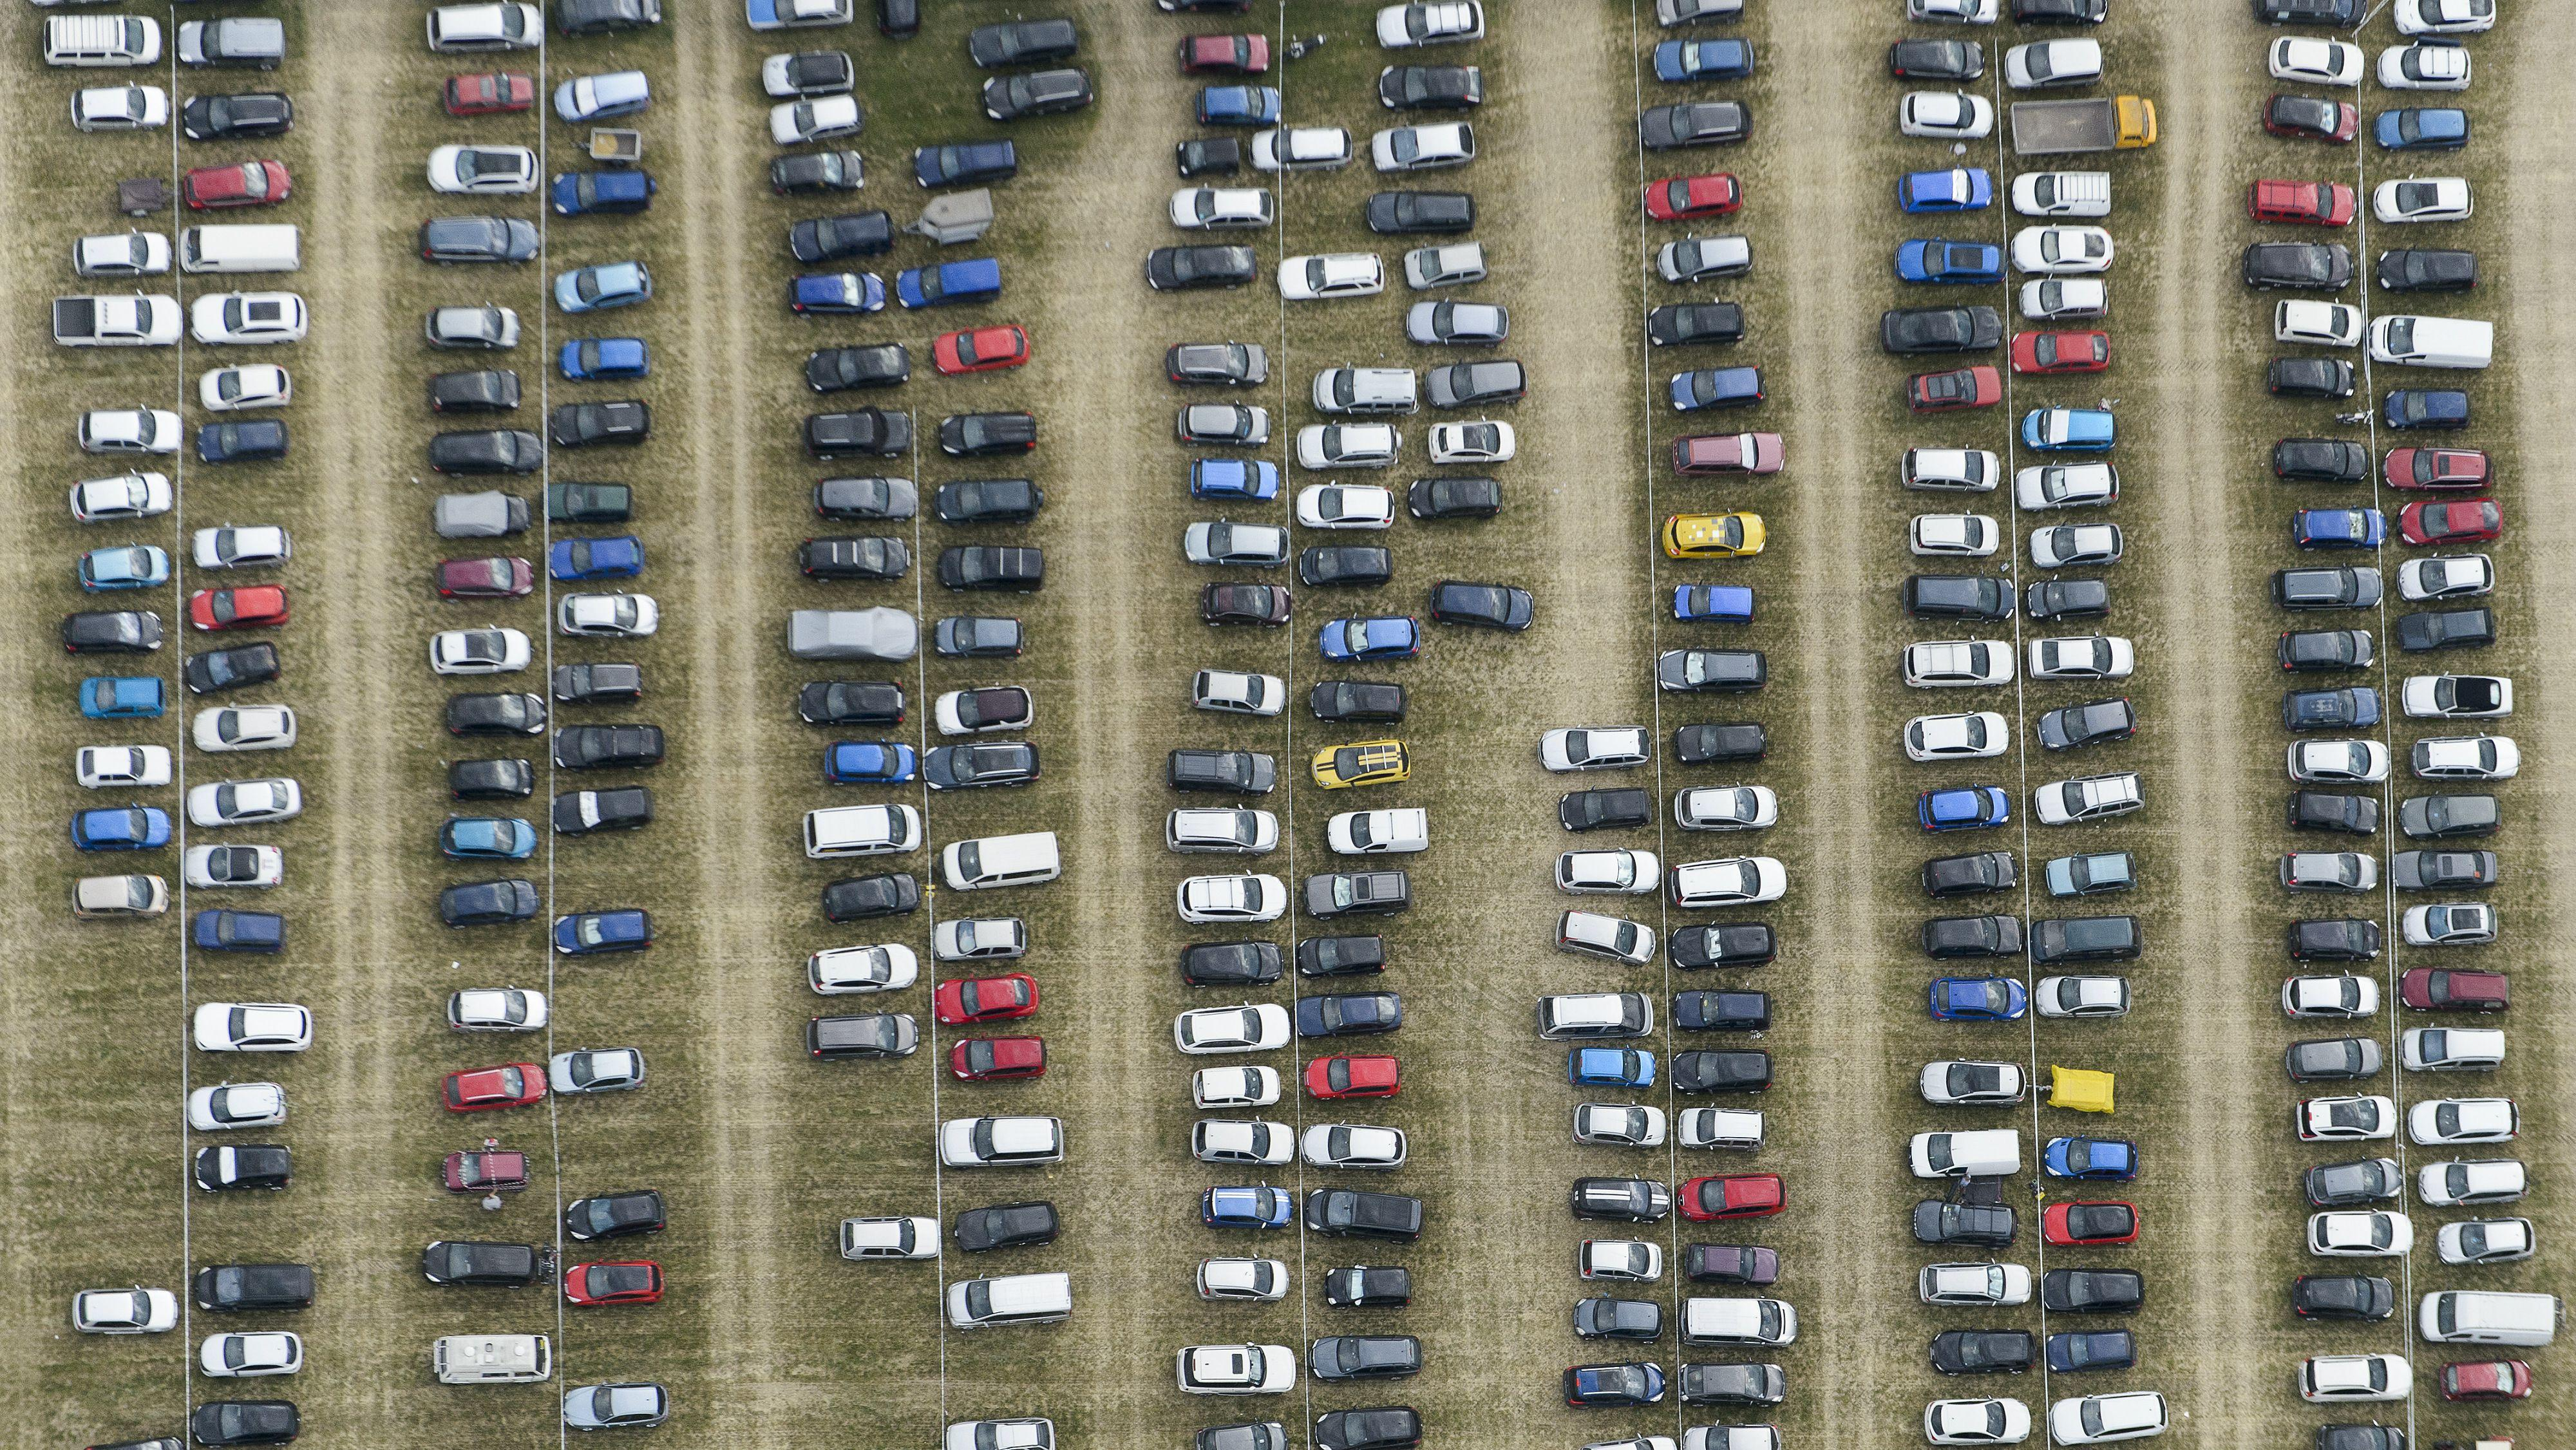car: (1909, 1045, 2125, 1118), (1162, 1330, 1300, 1399), (182, 283, 317, 354), (2415, 1282, 2564, 1346), (32, 5, 166, 71), (1663, 845, 1801, 909), (936, 828, 1069, 893), (2371, 311, 2507, 375), (778, 608, 918, 670), (407, 1229, 547, 1291), (180, 1254, 315, 1317), (1642, 504, 1778, 566), (1159, 859, 1279, 928), (1660, 424, 1798, 483), (180, 88, 306, 152), (179, 225, 315, 283), (2005, 97, 2153, 150), (1644, 638, 1775, 698), (65, 396, 186, 462), (46, 283, 177, 343), (170, 14, 301, 74), (789, 329, 915, 391), (182, 994, 315, 1052), (425, 1330, 563, 1385), (1649, 354, 1775, 414), (1396, 292, 1507, 359), (2038, 1385, 2174, 1438), (1272, 249, 1389, 311), (1295, 737, 1422, 794), (794, 805, 922, 861), (418, 290, 531, 354), (1672, 1294, 1798, 1351), (2233, 175, 2358, 232), (2399, 730, 2528, 785), (1668, 776, 1798, 831), (943, 1277, 1081, 1328), (931, 1110, 1063, 1164), (1424, 575, 1545, 633), (1905, 1254, 2029, 1310), (188, 1324, 315, 1379), (1164, 1003, 1283, 1061), (1304, 1179, 1419, 1240), (920, 317, 1035, 377), (927, 668, 1035, 732), (941, 1190, 1070, 1243), (433, 1056, 547, 1116), (191, 775, 318, 828), (2238, 230, 2353, 288), (2295, 1344, 2413, 1400), (536, 394, 648, 454), (1415, 348, 1537, 403), (184, 902, 292, 964), (2396, 668, 2521, 721), (2035, 1263, 2151, 1319), (2015, 396, 2132, 453), (1297, 1116, 1414, 1172), (64, 472, 180, 529), (1548, 909, 1658, 969), (2371, 44, 2480, 104), (556, 1381, 676, 1436), (2401, 1095, 2525, 1148), (1177, 1110, 1300, 1164), (416, 622, 540, 675), (182, 1139, 306, 1192), (1897, 1128, 2024, 1179), (1134, 239, 1261, 290), (547, 585, 662, 642), (803, 1015, 922, 1070), (1923, 1319, 2045, 1372), (2031, 775, 2157, 826), (1313, 808, 1438, 859), (2273, 561, 2387, 617), (182, 516, 295, 573), (541, 893, 651, 951), (2033, 1125, 2139, 1185), (1175, 653, 1281, 713), (182, 698, 303, 752), (425, 552, 536, 608), (1672, 1356, 1787, 1411), (441, 985, 556, 1040), (1191, 1181, 1299, 1240), (175, 829, 283, 888), (2029, 698, 2148, 752), (1300, 357, 1419, 410), (1159, 805, 1281, 856), (541, 263, 663, 315), (65, 80, 166, 141), (1870, 301, 1996, 350), (1656, 721, 1782, 771), (1175, 515, 1284, 571), (2298, 1204, 2415, 1257), (2277, 495, 2394, 548), (2029, 909, 2150, 960), (798, 935, 909, 990), (1300, 536, 1408, 592), (541, 1040, 649, 1096), (1897, 571, 2012, 624), (1890, 92, 1994, 150), (2286, 1091, 2404, 1142), (1897, 637, 2019, 686), (69, 1287, 179, 1342), (1638, 299, 1764, 347), (1286, 472, 1385, 532), (931, 541, 1051, 591), (545, 720, 665, 769), (1661, 575, 1769, 630), (2261, 30, 2373, 83), (541, 778, 653, 831), (437, 690, 552, 741), (180, 1079, 295, 1130), (177, 580, 292, 631), (2396, 962, 2514, 1011), (1171, 934, 1290, 983), (2266, 847, 2388, 895), (2019, 635, 2141, 683), (1286, 858, 1408, 905), (1890, 225, 1999, 278), (425, 361, 534, 414), (426, 486, 540, 538), (2394, 497, 2511, 546), (2369, 249, 2486, 299), (2035, 849, 2151, 898), (552, 1190, 669, 1240), (1913, 1393, 2038, 1439), (2250, 97, 2358, 150), (538, 532, 646, 585), (433, 810, 541, 863), (534, 463, 639, 518), (1290, 985, 1401, 1036), (2396, 1020, 2511, 1070), (1675, 1172, 1790, 1222), (67, 736, 165, 794), (793, 679, 911, 727), (1877, 30, 1983, 83), (2381, 439, 2491, 490), (1286, 414, 1408, 460), (784, 534, 906, 580), (2275, 912, 2388, 962), (432, 879, 545, 928), (1536, 992, 1652, 1040), (1552, 783, 1656, 836), (1665, 1040, 1773, 1091), (2020, 518, 2128, 569), (548, 332, 656, 384), (188, 357, 295, 408), (1304, 1050, 1405, 1105), (1890, 447, 2001, 497), (1644, 41, 1755, 90), (2263, 295, 2360, 352), (2417, 1156, 2532, 1204), (2031, 971, 2146, 1019), (1633, 103, 1757, 147), (1651, 235, 1769, 281), (1920, 905, 2022, 958), (2005, 329, 2107, 382), (425, 1144, 531, 1195), (816, 870, 925, 920), (561, 1257, 671, 1307), (1629, 168, 1757, 210), (1905, 1195, 2022, 1241), (2270, 737, 2387, 783), (58, 605, 163, 656), (2277, 1031, 2388, 1079), (2365, 175, 2477, 223), (1387, 239, 1499, 286), (173, 640, 285, 688), (1157, 743, 1272, 789), (58, 226, 173, 272), (2268, 435, 2371, 486), (1555, 1363, 1674, 1408), (2427, 1355, 2537, 1402), (2296, 1153, 2406, 1201), (1171, 396, 1272, 447), (2277, 974, 2385, 1022), (1164, 340, 1272, 387), (803, 408, 911, 456), (1672, 1098, 1766, 1153), (1665, 923, 1790, 964), (927, 978, 1047, 1020), (883, 269, 1014, 308), (1541, 854, 1656, 898), (1536, 725, 1651, 769), (2256, 350, 2358, 400), (2394, 898, 2500, 946), (1566, 1172, 1672, 1220), (2429, 1218, 2539, 1264), (934, 410, 1044, 456), (182, 1397, 306, 1438), (1405, 472, 1518, 516), (2010, 225, 2111, 274), (71, 872, 172, 921), (1424, 414, 1529, 462), (1184, 1065, 1288, 1112), (2289, 1273, 2397, 1319), (927, 481, 1044, 523), (1311, 614, 1414, 661), (918, 746, 1039, 787), (2284, 783, 2390, 829), (2272, 626, 2378, 672), (2015, 281, 2121, 327), (78, 670, 170, 723), (2392, 610, 2502, 654), (1306, 1332, 1415, 1376), (929, 916, 1039, 960), (177, 163, 278, 210), (1300, 675, 1414, 718), (2006, 170, 2111, 216), (547, 660, 651, 706), (71, 803, 161, 856), (2277, 681, 2385, 725), (439, 759, 547, 803), (1923, 976, 2035, 1019), (1665, 983, 1776, 1026), (78, 545, 177, 592), (2038, 1202, 2144, 1247), (2403, 794, 2509, 838), (784, 278, 899, 318), (2394, 552, 2503, 594), (812, 481, 922, 523), (2380, 385, 2477, 433), (839, 1208, 931, 1257), (188, 419, 287, 465), (425, 428, 541, 467), (2371, 110, 2473, 154), (2392, 847, 2503, 888), (1575, 1234, 1665, 1284), (2013, 465, 2123, 506), (1893, 377, 1994, 421), (1679, 1240, 1783, 1282), (1564, 1043, 1660, 1089), (2026, 576, 2121, 622), (1194, 1255, 1286, 1303), (824, 737, 920, 783), (1916, 854, 2024, 895), (1895, 709, 2003, 750), (1897, 509, 1996, 553), (1891, 164, 1990, 209), (925, 619, 1030, 660), (1566, 1095, 1661, 1139), (1185, 578, 1284, 621), (948, 1038, 1051, 1079), (1916, 783, 2010, 828), (2012, 35, 2118, 74), (1293, 928, 1389, 969), (1568, 1298, 1658, 1340), (1318, 1264, 1405, 1307), (1185, 462, 1277, 500), (2042, 1328, 2137, 1365), (1315, 1406, 1419, 1432), (1681, 1423, 1783, 1443)
